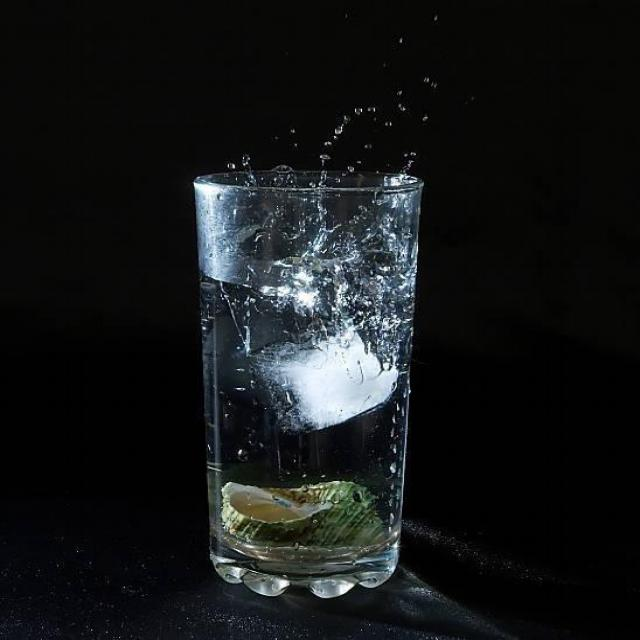glass-normal: (188, 166, 427, 604)
